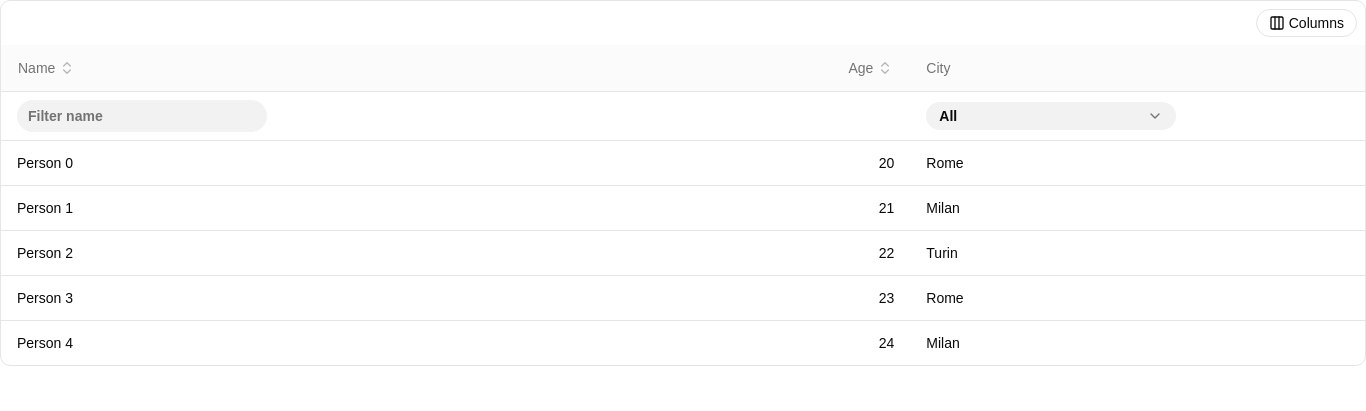
DataGrid — filtering › shows the no-results state when a filter matches nothing
The width and height of the screenshot is (1366, 411).
Type "fake name" into the field named "filter by name" at [142, 116], box [17, 100, 267, 132]
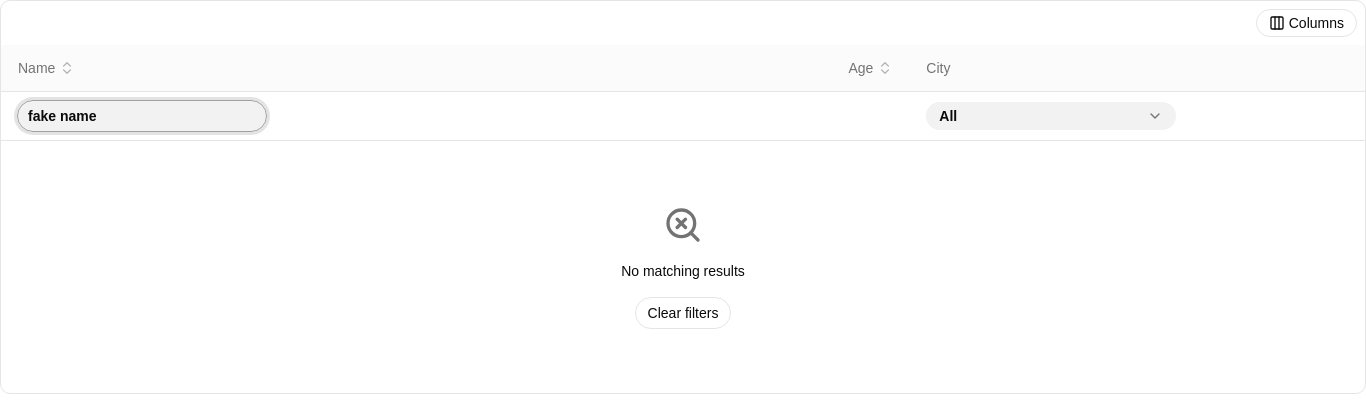
Expected: the text "No matching results" is shown, [621, 261, 745, 281]
Expected: the button "Clear filters" is shown, [635, 297, 731, 329]
